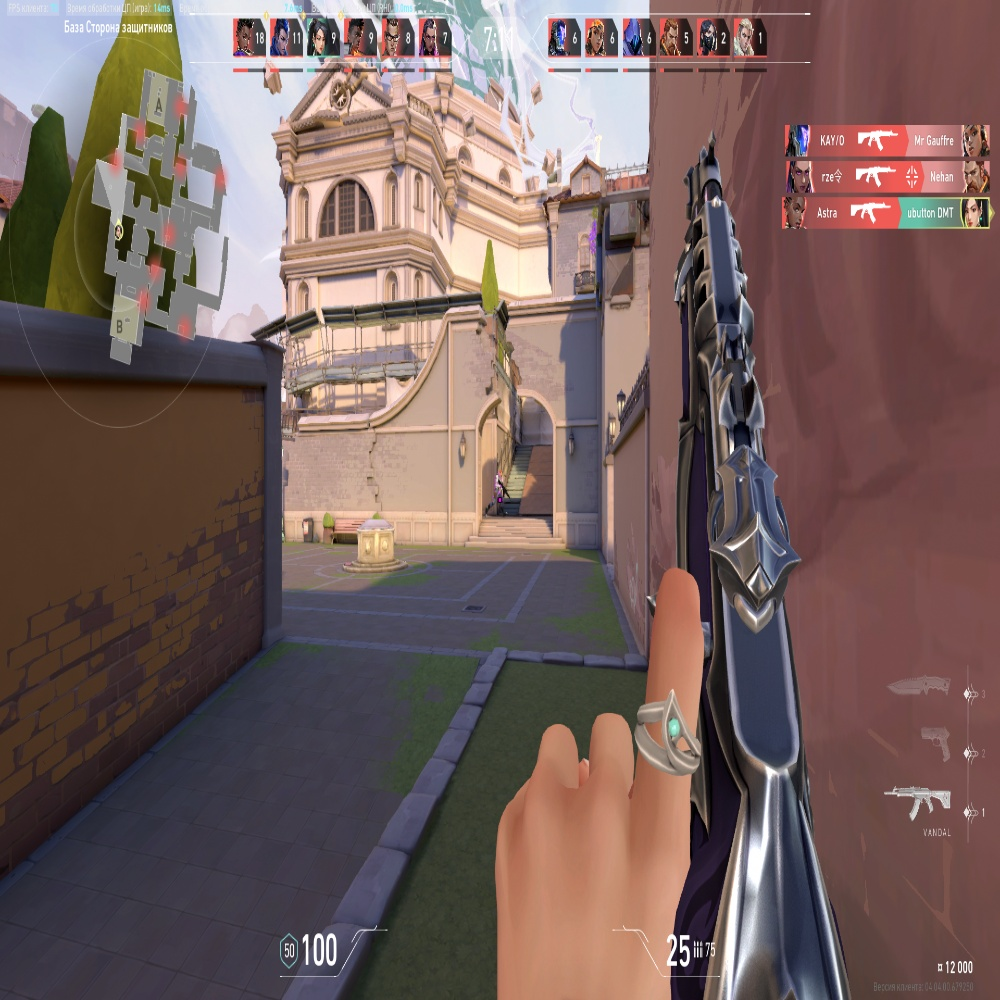body: (494, 476, 500, 497)
head: (498, 470, 502, 478)
